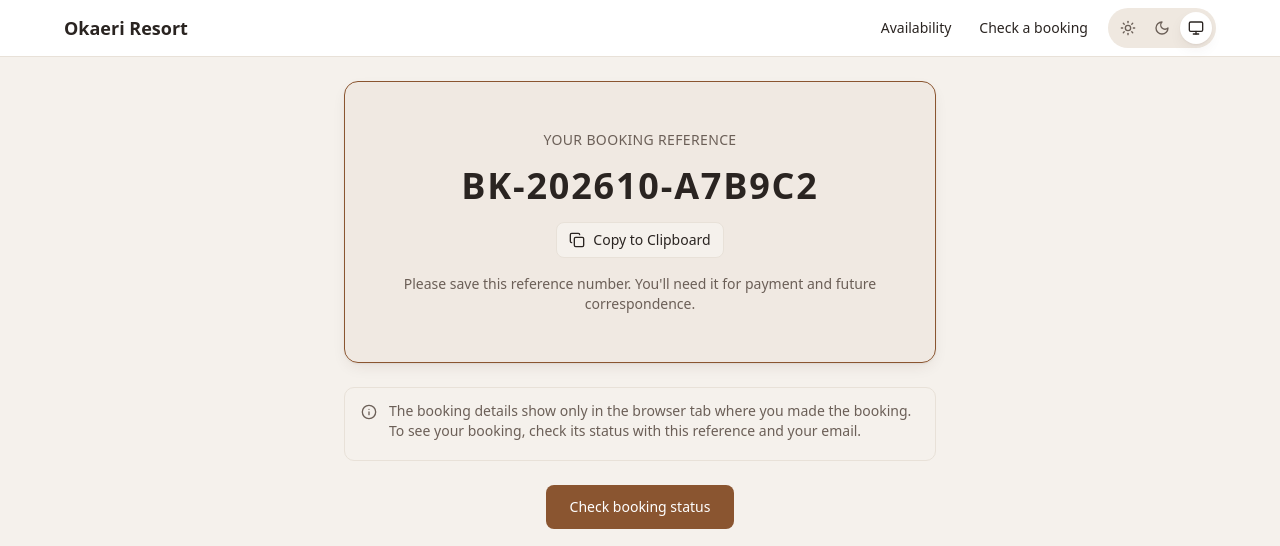
Test: booking confirmation page › opens the status lookup with the reference filled in and the email empty
Click the link "Check booking status" at (640, 507), box [546,485,734,529]
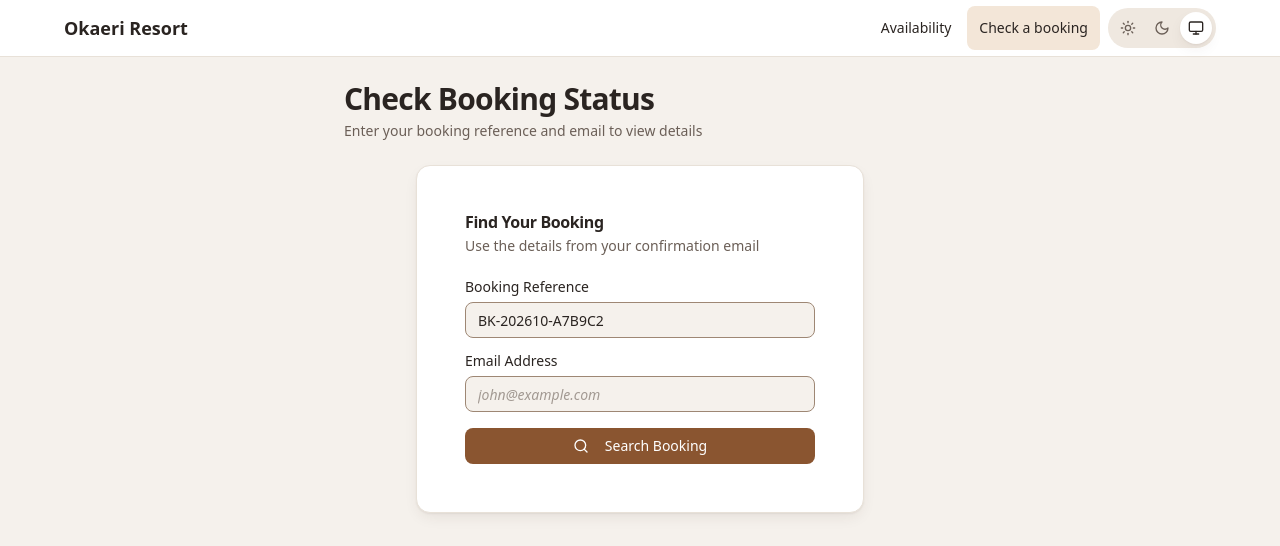
Result: the field labelled "Booking Reference" holds "BK-202610-A7B9C2" at [465,302,815,338]
Result: the field labelled "Email Address" is empty at [465,376,815,412]
